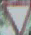Give way: (0, 0, 30, 33)
